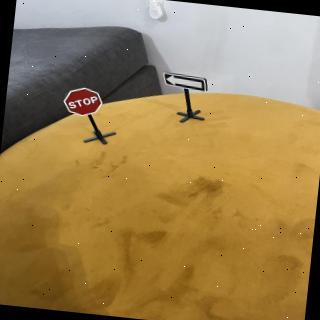sign_oneway_left: (160, 71, 211, 96)
sign_stop: (62, 85, 106, 120)
